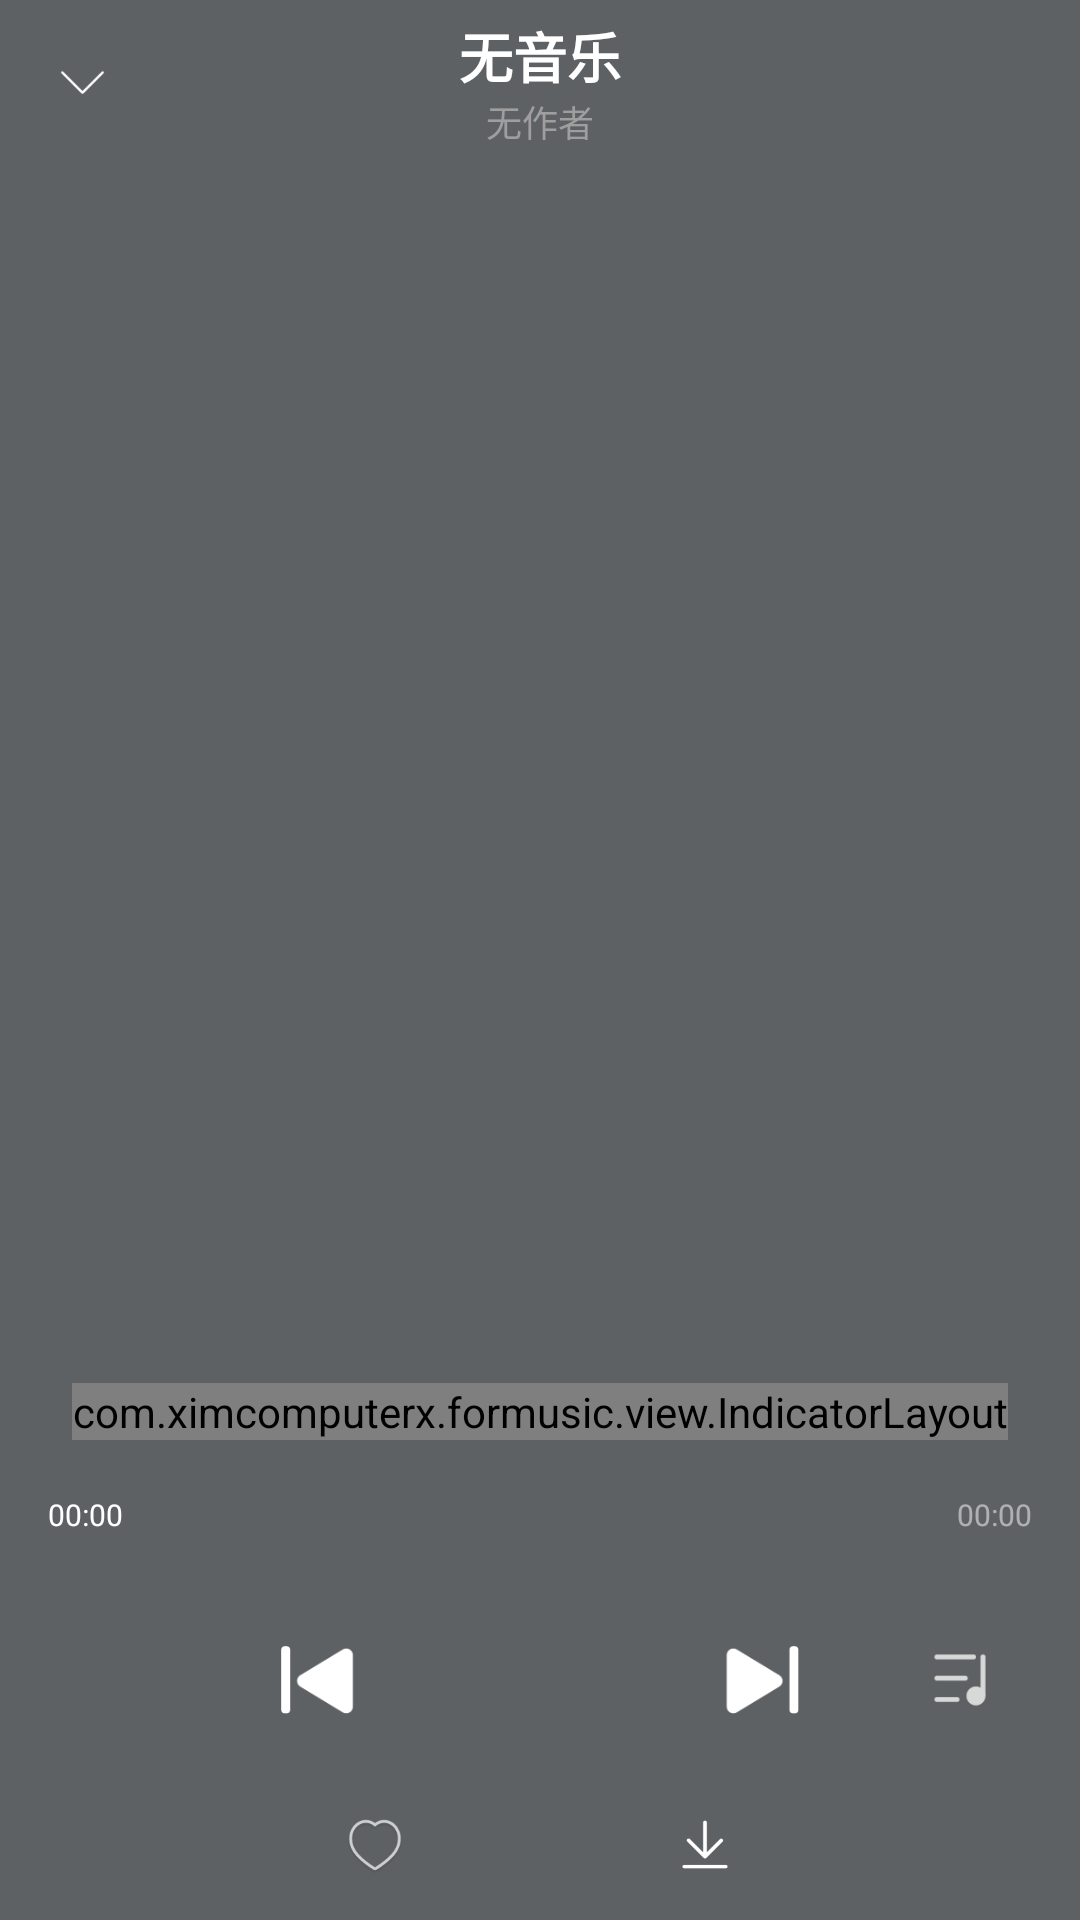

Screen size 1080w x 1920h. Icon name, then its box in pixels as (x1, y1, x2, y2):
huichang elevator pulldown: (61, 71, 104, 94)
play next: (726, 1646, 799, 1714)
play prev: (281, 1646, 353, 1714)
song group page collect: (349, 1820, 401, 1870)
song group page download: (682, 1820, 728, 1869)
tool framelist: (934, 1654, 986, 1706)
